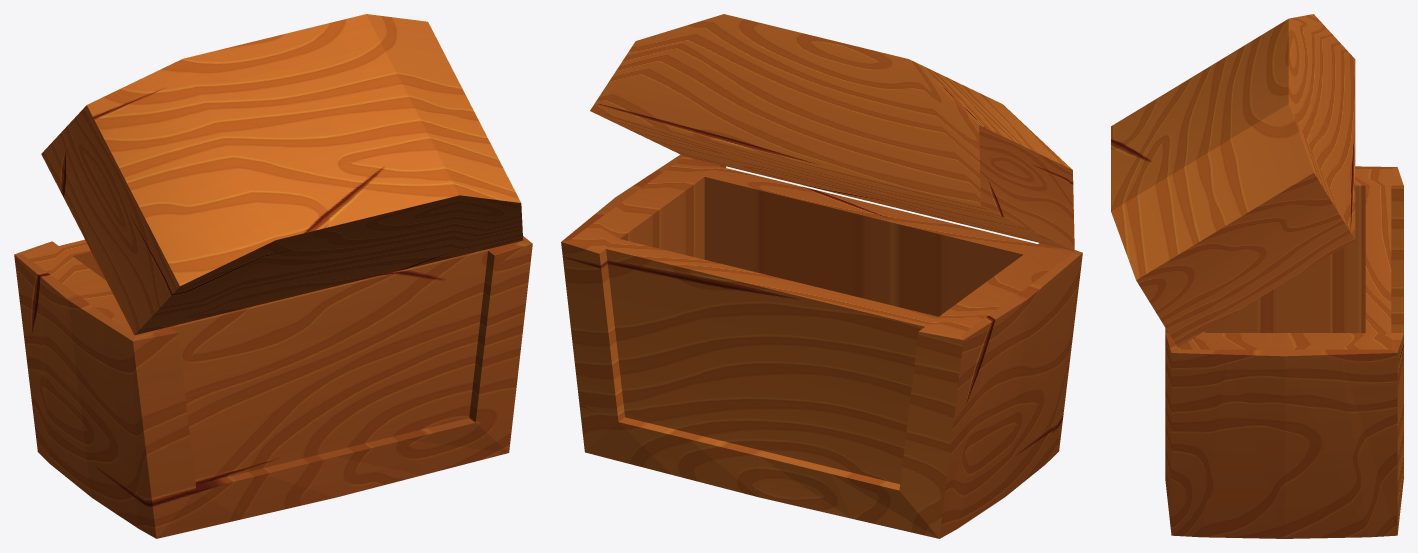
3 renders of one model, left to right at view 1: azimuth 30°, elevation 25°; view 2: azimuth 150°, elevation 25°; view 3: azimuth 270°, elevation 25°, orthographic. The views are drawn at different scales.
Visible parts, largest first — view 1: pCube1, pCube3; view 2: pCube1, pCube3; view 3: pCube1, pCube3.
Part boxes in pixels (x1=…): pCube1: x1=14, y1=236, x2=532, y2=538; pCube3: x1=41, y1=14, x2=523, y2=335; pCube1: x1=561, y1=154, x2=1082, y2=538; pCube3: x1=590, y1=14, x2=1074, y2=251; pCube1: x1=1165, y1=166, x2=1403, y2=538; pCube3: x1=1111, y1=14, x2=1355, y2=347.
Bounding box in the file's own units: 2.12 × 2.04 × 1.37.
Materials: 2 (2 with a texture image).
